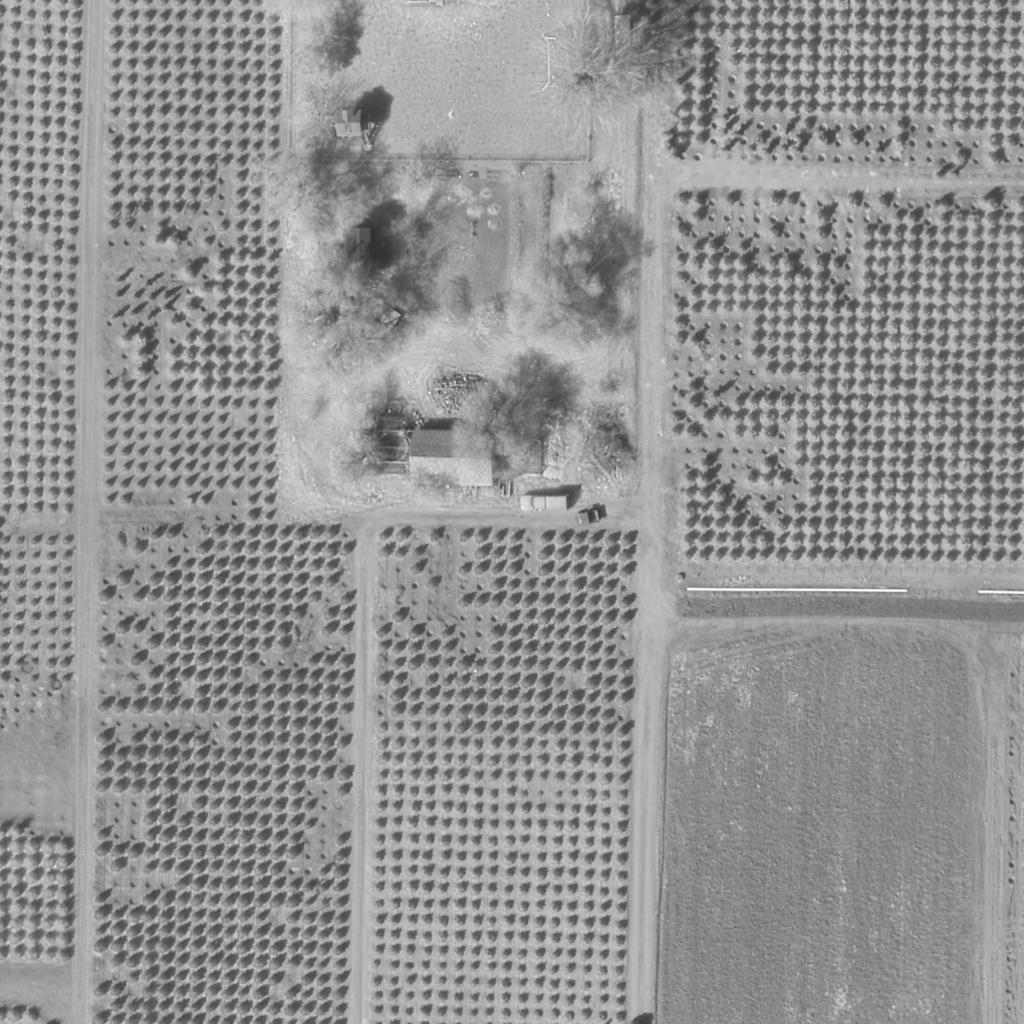vehicle: (520, 496, 570, 512)
